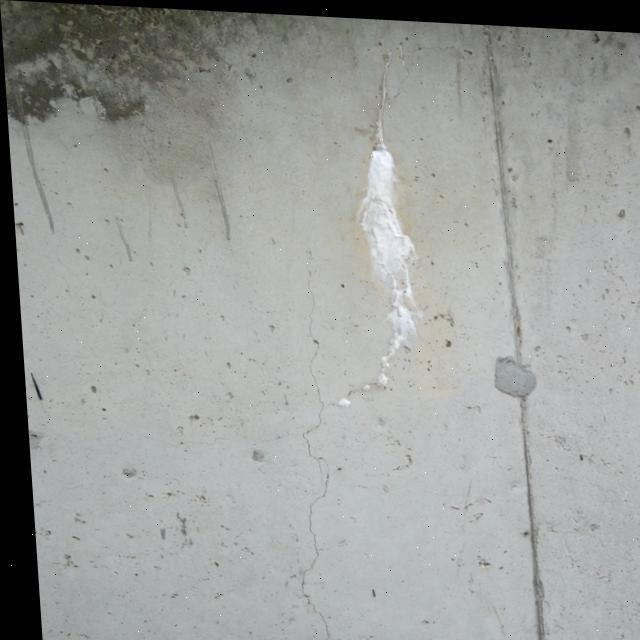D01: (362, 138, 417, 357)
